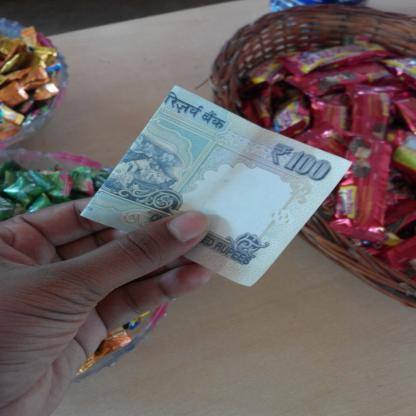Old100Back: (78, 84, 354, 288)
